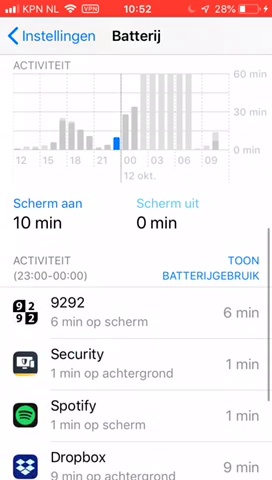activity: (7, 252, 96, 283)
app: (7, 291, 263, 334), (7, 345, 266, 386), (7, 394, 266, 435)
